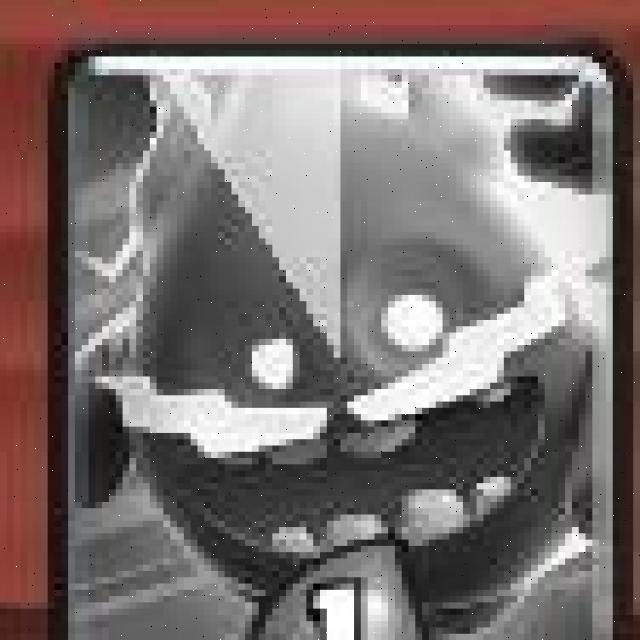Electro_Spirit: (44, 35, 621, 640)
